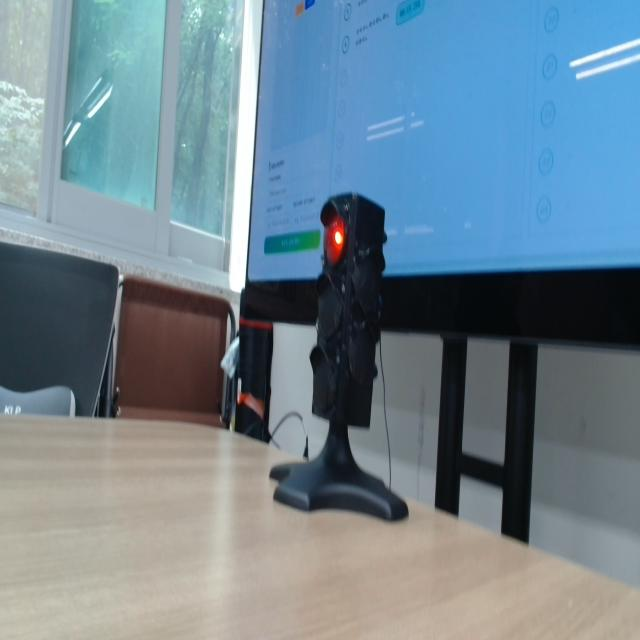red_light: (324, 213, 346, 266), (334, 230, 343, 245)
